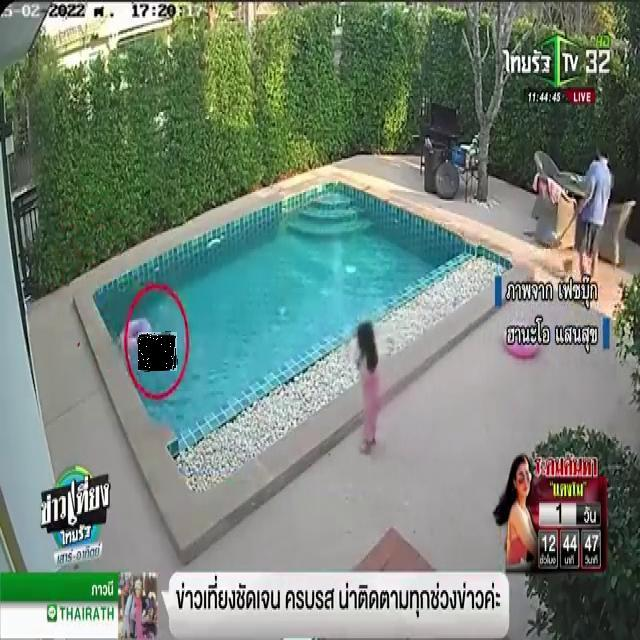Out of Water: (138, 332, 177, 371)
